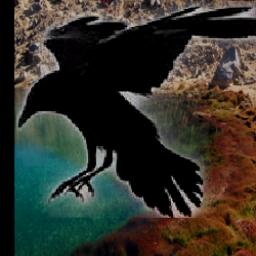Crow: (17, 2, 256, 219)
